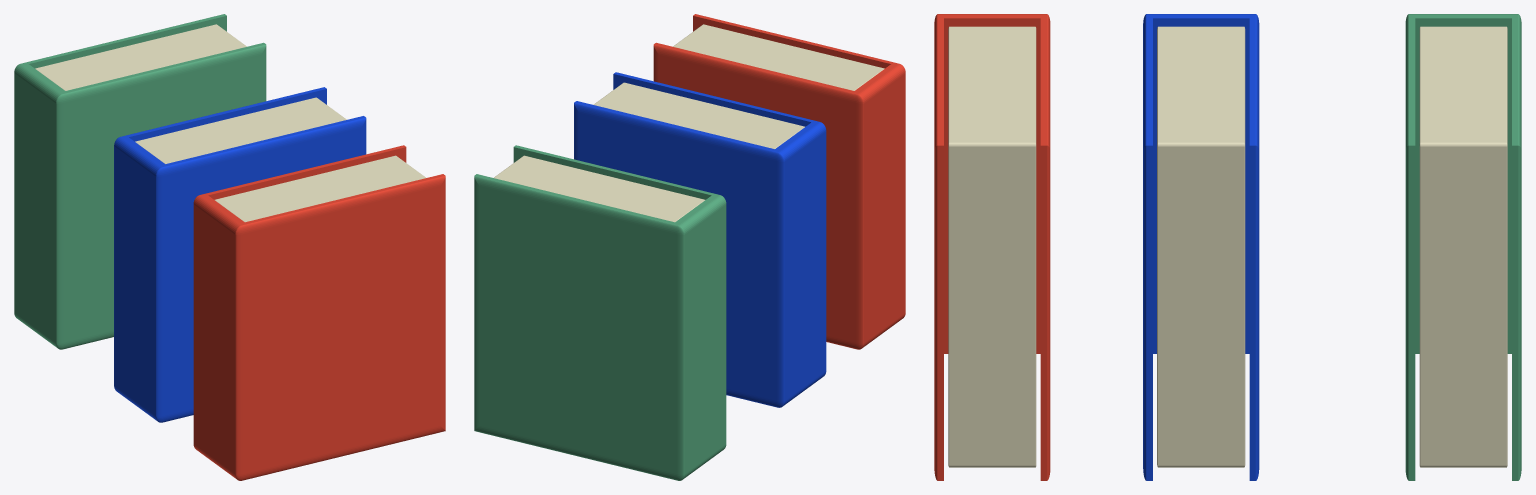
Rendered from books.fbx.
3 views of the same model, side by side, from view 1: azimuth 30°, elevation 25°; view 2: azimuth 150°, elevation 25°; view 3: azimuth 270°, elevation 25° (orthographic). The views are drawn at different scales.
Parts seen in each view (by area): view 1: Cube.004, Cube, Cube.002, Cube.003, Cube.001, Cube.005; view 2: Cube, Cube.002, Cube.004, Cube.003, Cube.005, Cube.001; view 3: Cube.001, Cube.005, Cube.003, Cube, Cube.004, Cube.002.
Part boxes in pixels (x1,y1,x2,y2): Cube.004: [193, 145, 445, 480]; Cube: [14, 14, 266, 349]; Cube.002: [114, 87, 366, 422]; Cube.003: [135, 97, 346, 163]; Cube.001: [35, 24, 246, 90]; Cube.005: [215, 155, 425, 222]; Cube: [474, 145, 726, 480]; Cube.002: [574, 72, 826, 407]; Cube.004: [653, 14, 905, 349]; Cube.003: [593, 82, 804, 148]; Cube.005: [673, 24, 884, 90]; Cube.001: [494, 155, 704, 222]; Cube.001: [1419, 26, 1507, 467]; Cube.005: [948, 26, 1036, 467]; Cube.003: [1157, 26, 1245, 467]; Cube: [1405, 14, 1521, 480]; Cube.004: [934, 14, 1050, 480]; Cube.002: [1143, 14, 1259, 480].
Bounding box in the file's own units: 200 × 232 × 368.
